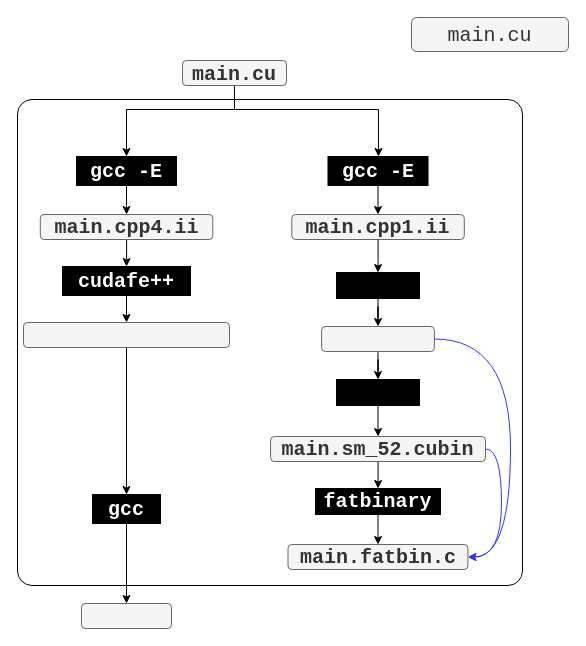
Some shapes in this 586 by 646 pixel diagram are drawn without their labels. The box of each missing label's shape, as (x1, y1, x2, y2) in pixels:
cicc: (336, 272, 420, 298)
main.cudafe1.cpp: (22, 322, 230, 348)
main.o: (80, 602, 172, 628)
main.ptx: (321, 326, 434, 352)
ptxas: (336, 378, 420, 406)
